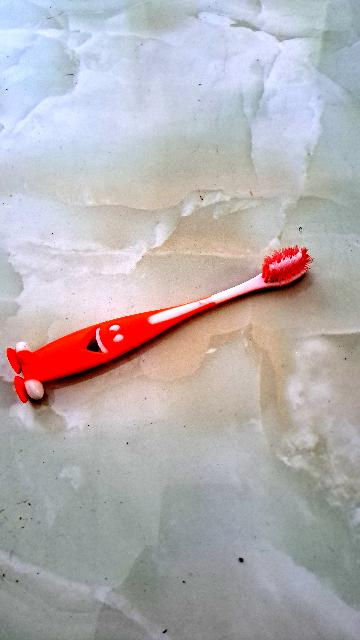hardplastic: (0, 202, 322, 411)
